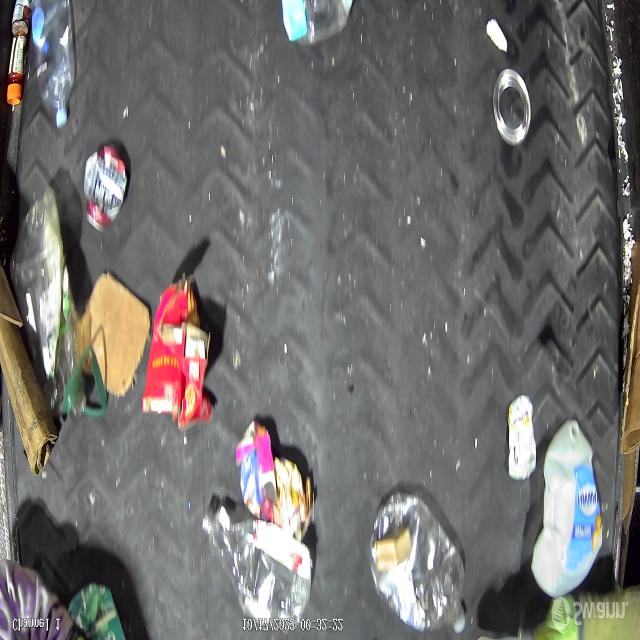can: (84, 142, 130, 233), (492, 66, 532, 146), (507, 391, 536, 485)
milk_jug: (530, 418, 602, 598)
plastic_bottle: (9, 184, 88, 420), (371, 493, 468, 634), (204, 508, 314, 624), (31, 0, 75, 128)
